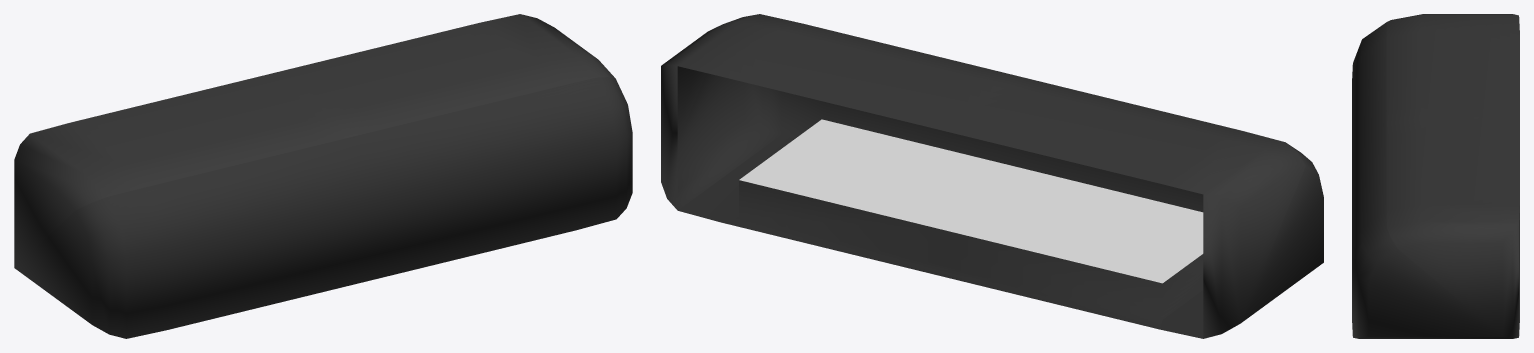
Rendered from lamp.fbx.
The picture shows the model from 3 angles, left to right: view 1: azimuth 30°, elevation 25°; view 2: azimuth 150°, elevation 25°; view 3: azimuth 270°, elevation 25°; orthographic projection. The views are drawn at different scales.
Parts seen in each view (by area): view 1: lamp; view 2: lamp; view 3: lamp.
Part boxes in pixels (left/top/right/bottom): lamp: left=14, top=14, right=632, bottom=338; lamp: left=661, top=14, right=1323, bottom=338; lamp: left=1352, top=14, right=1519, bottom=338.
Size of the model in its own units: 74.66 by 17.97 by 23.31.
